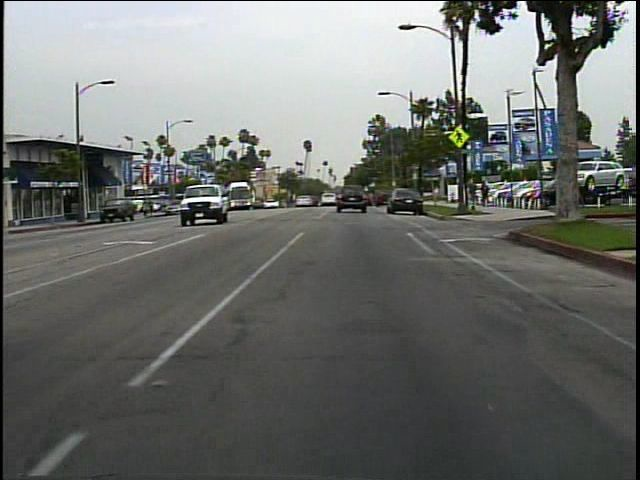person: (557, 174, 580, 223)
